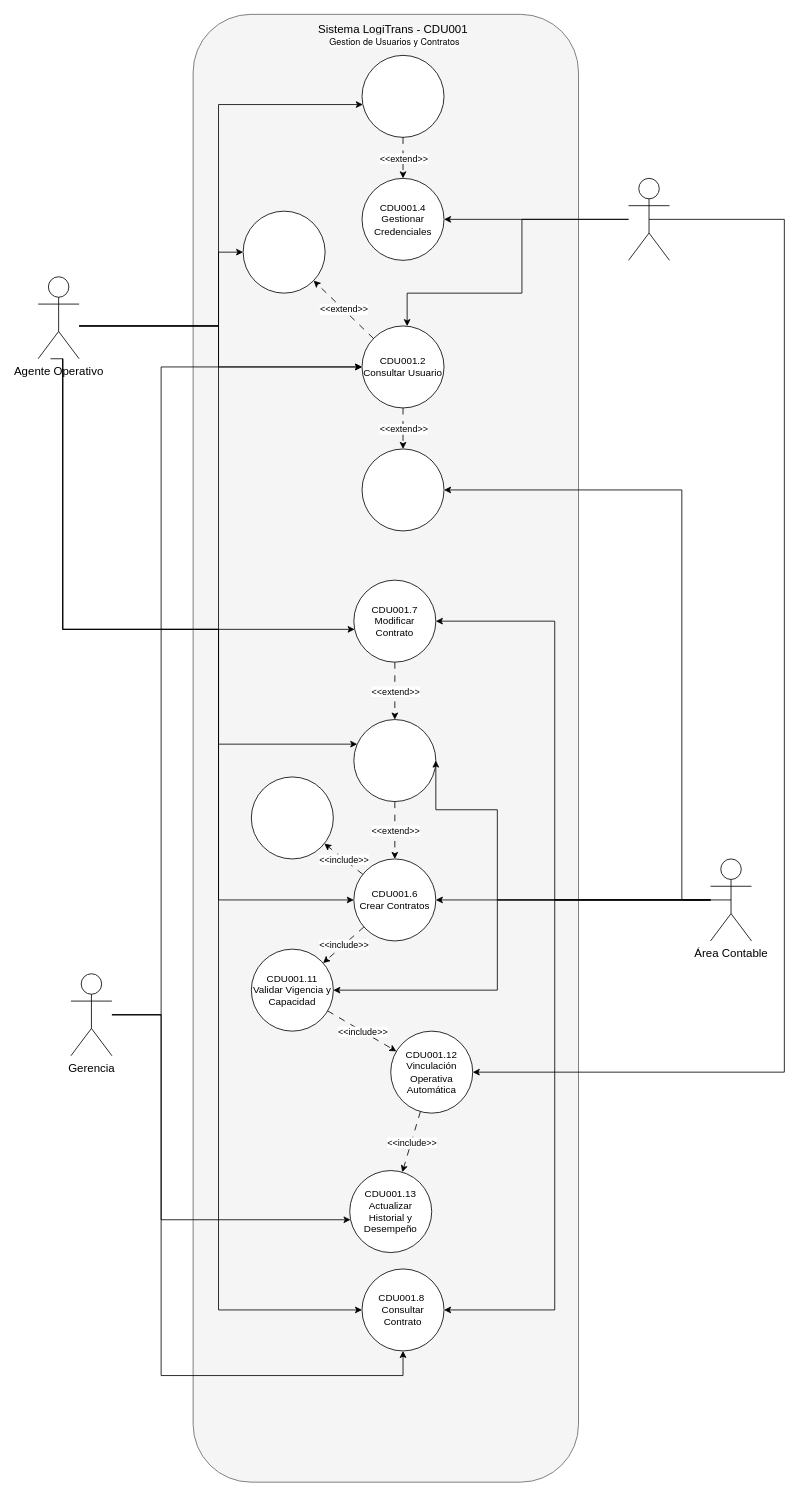
Some shapes in this 805 by 1497 pixel diagram are drawn without their labels. The centre of each missing label's shape, as x and y in pixels:
CDU001.1 Registrar Usuario: point (402, 96)
CDU001.10 Aplicar Descuento Especial: point (394, 760)
CDU001.3 Modificar Usuario: point (283, 251)
CDU001.5 Bloquear / Desactivar Usuario: point (402, 489)
CDU001.9 Parametrizar Tarifario: point (292, 817)
Cliente Corporativo: point (649, 219)
